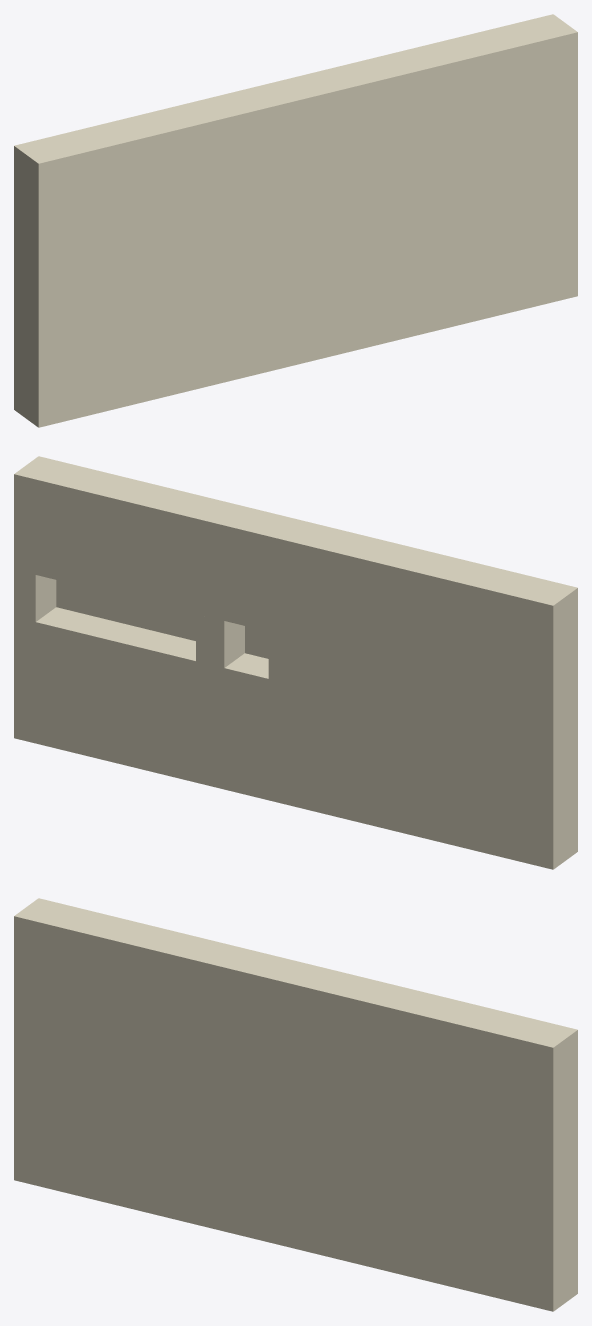
The picture shows the model from 3 angles, top to bottom: view 1: azimuth 30°, elevation 25°; view 2: azimuth 150°, elevation 25°; view 3: azimuth 330°, elevation 25°; orthographic projection.
Visible parts, largest first — view 1: polySurface7; view 2: polySurface7; view 3: polySurface7.
Boxes of the visible parts, box(x1,y1,x2,y2) form: polySurface7: box(14, 14, 577, 427); polySurface7: box(14, 456, 577, 869); polySurface7: box(14, 898, 577, 1311).
Bounding box in the file's own units: 51.35 × 24.02 × 4.07.
